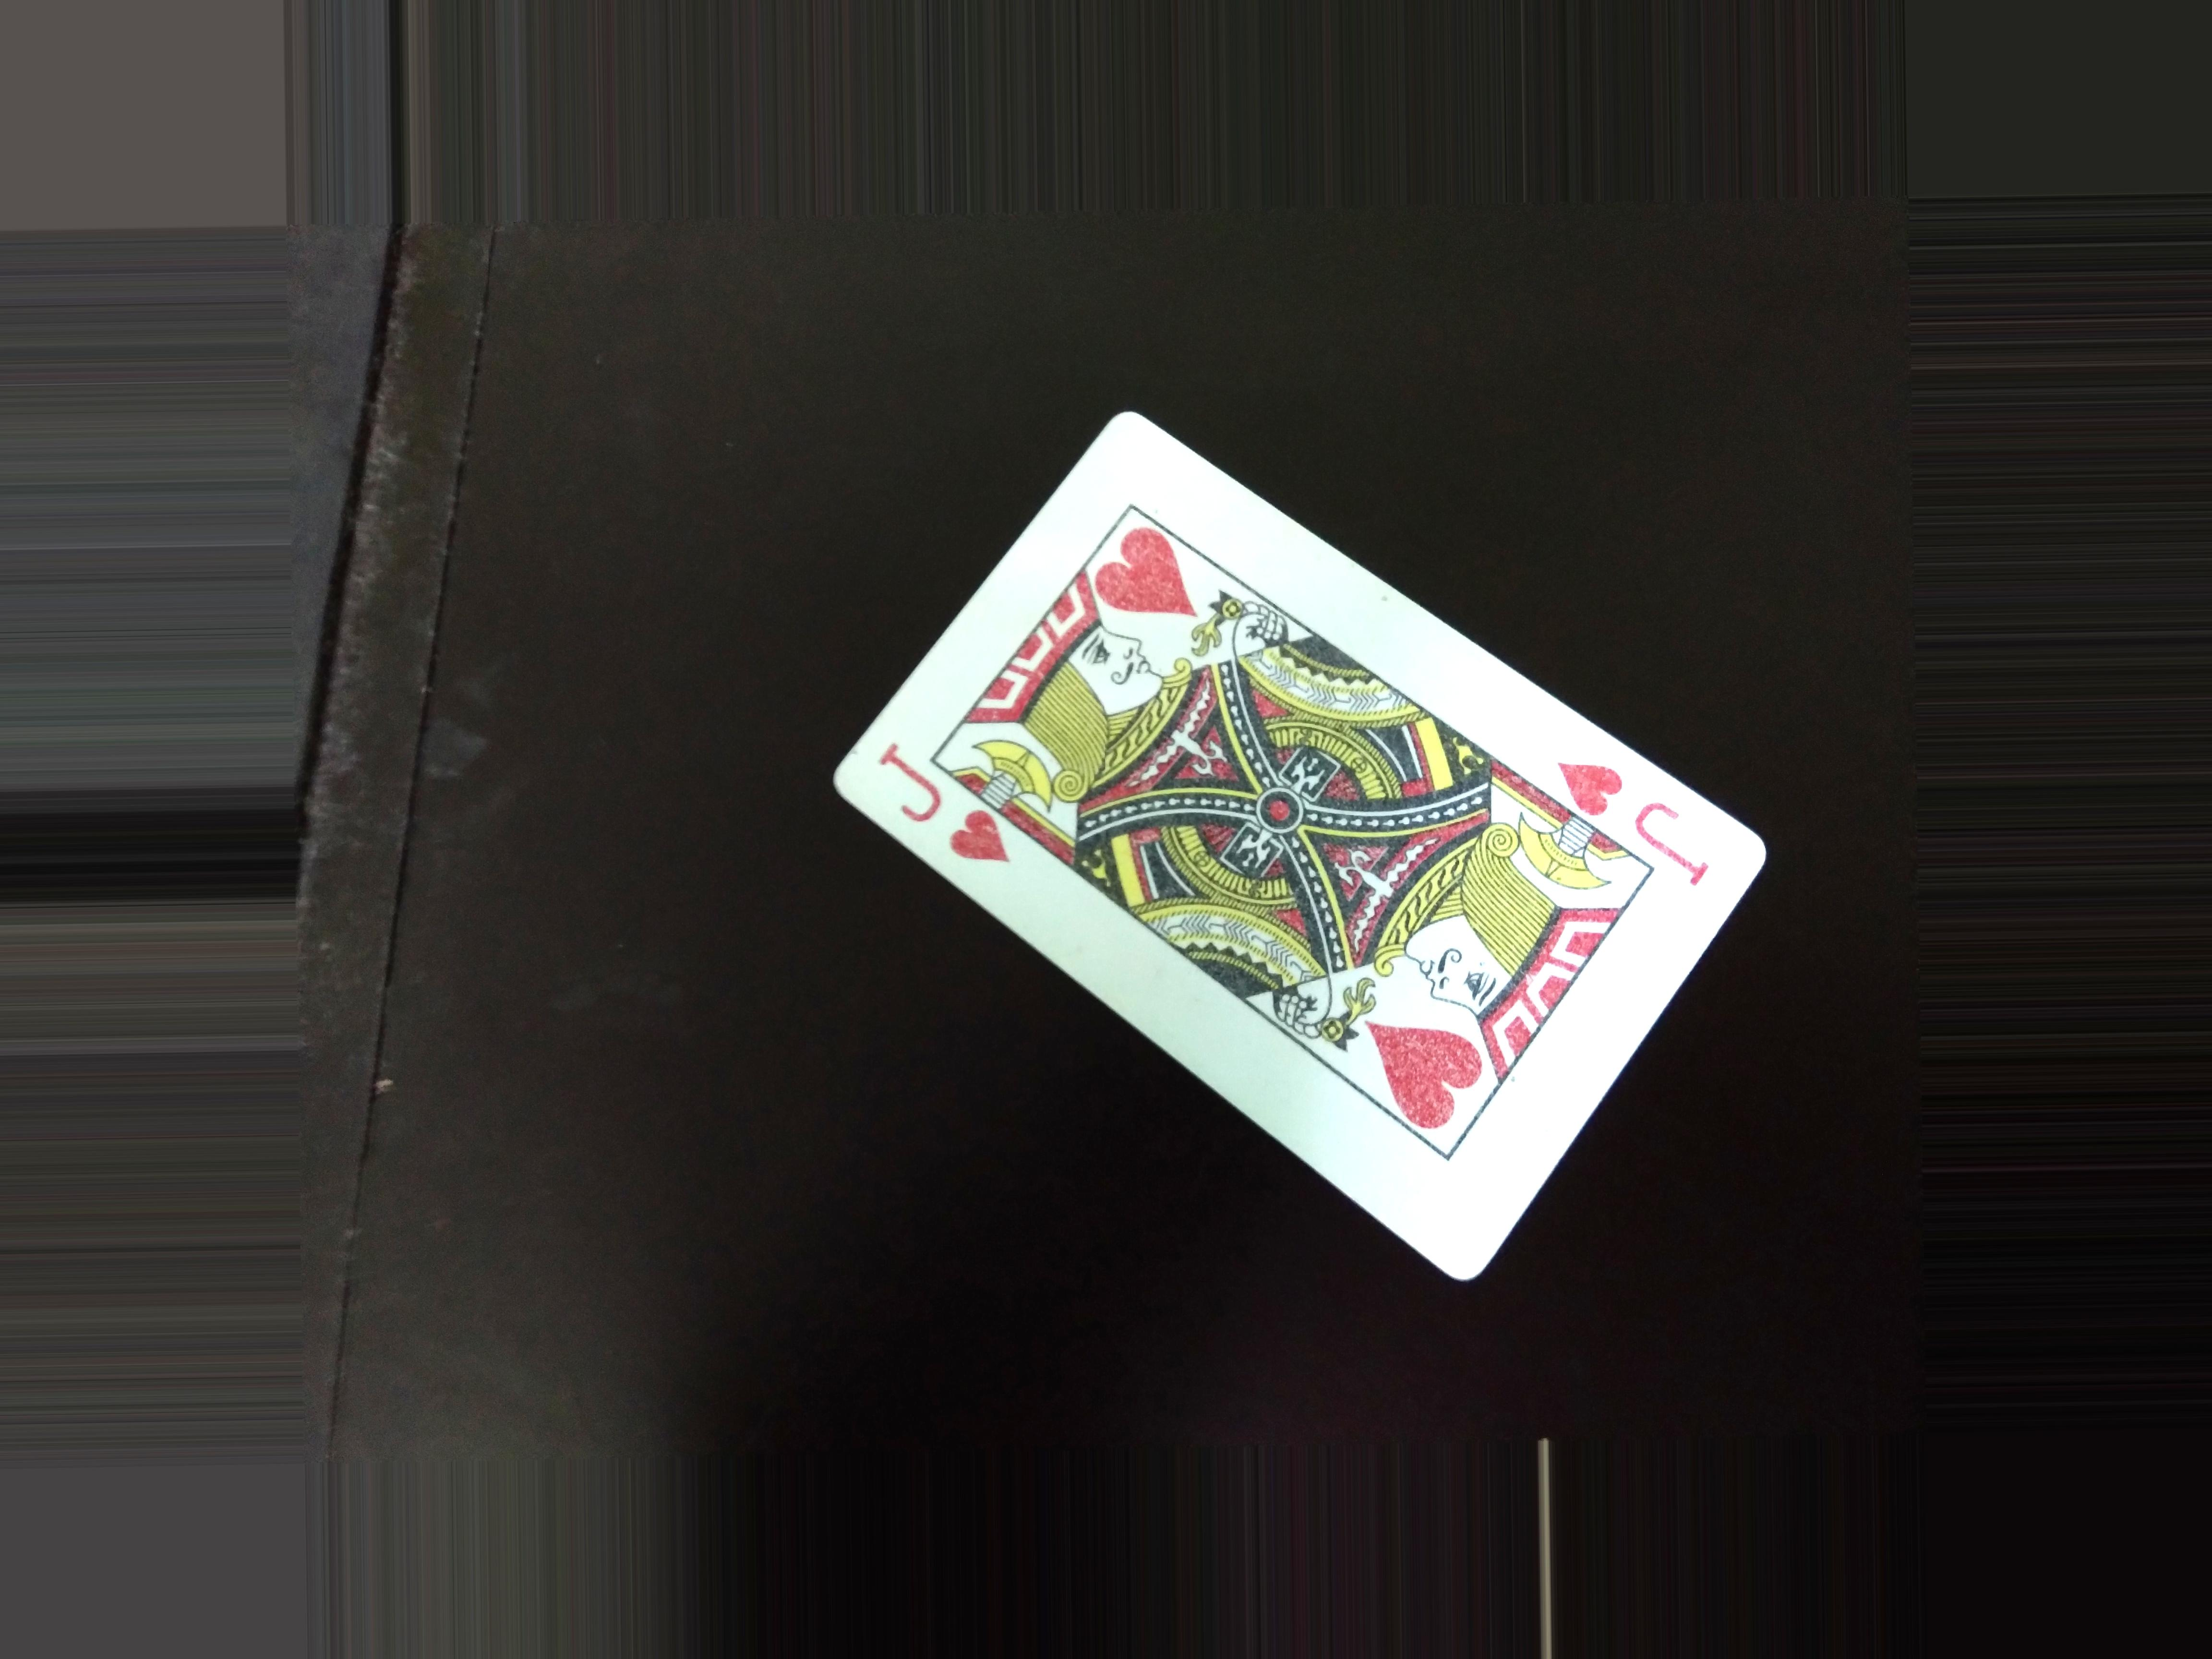JH: (874, 737, 996, 894)
